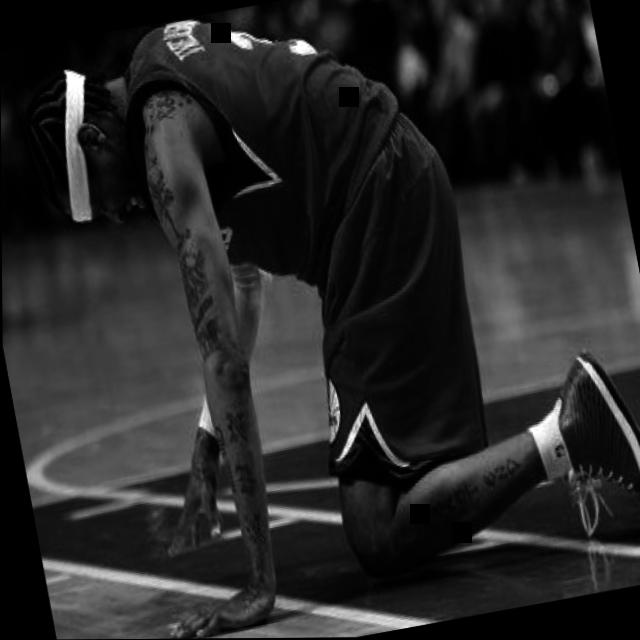Fall-Detected: (15, 0, 640, 628)
